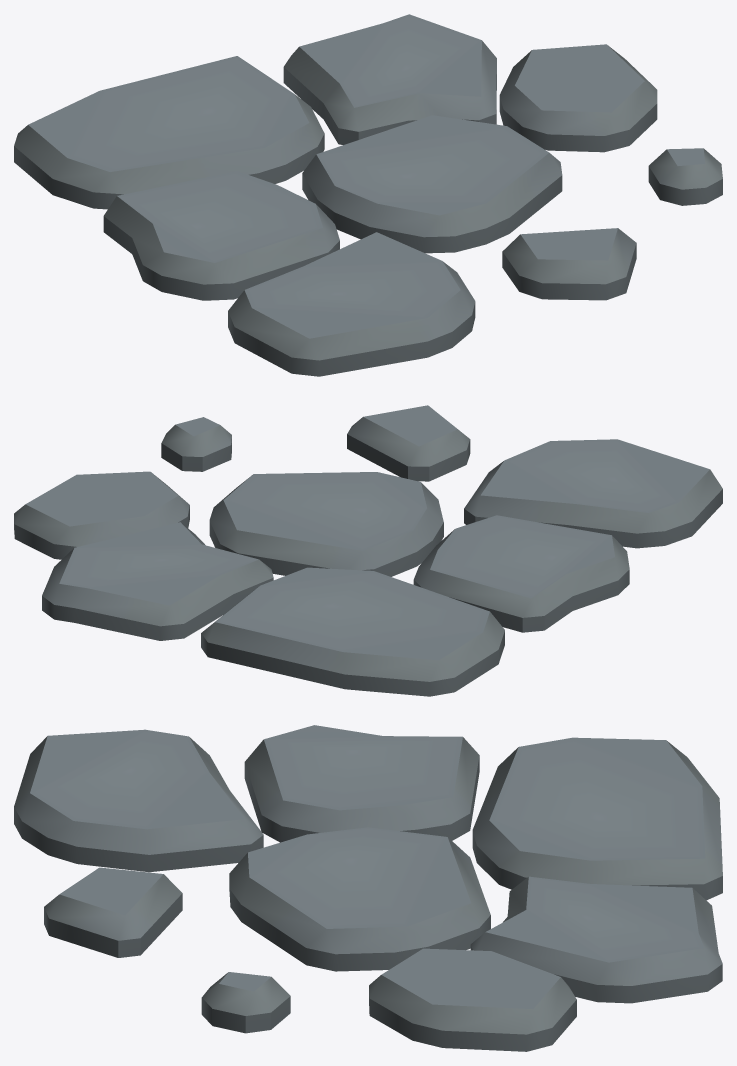
The model's file is path-c.glb.
3 views of the same model, one above another, from view 1: azimuth 30°, elevation 25°; view 2: azimuth 150°, elevation 25°; view 3: azimuth 270°, elevation 25° (orthographic). The views are drawn at different scales.
Parts seen in each view (by area): view 1: path_C; view 2: path_C; view 3: path_C.
Boxes of the visible parts, <box> form: path_C: <box>14,14,722,376</box>; path_C: <box>14,405,722,696</box>; path_C: <box>14,725,722,1051</box>.
Bounding box in the file's own units: 1.85 × 0.1 × 1.86.
Materials: 1 (1 with a texture image).
